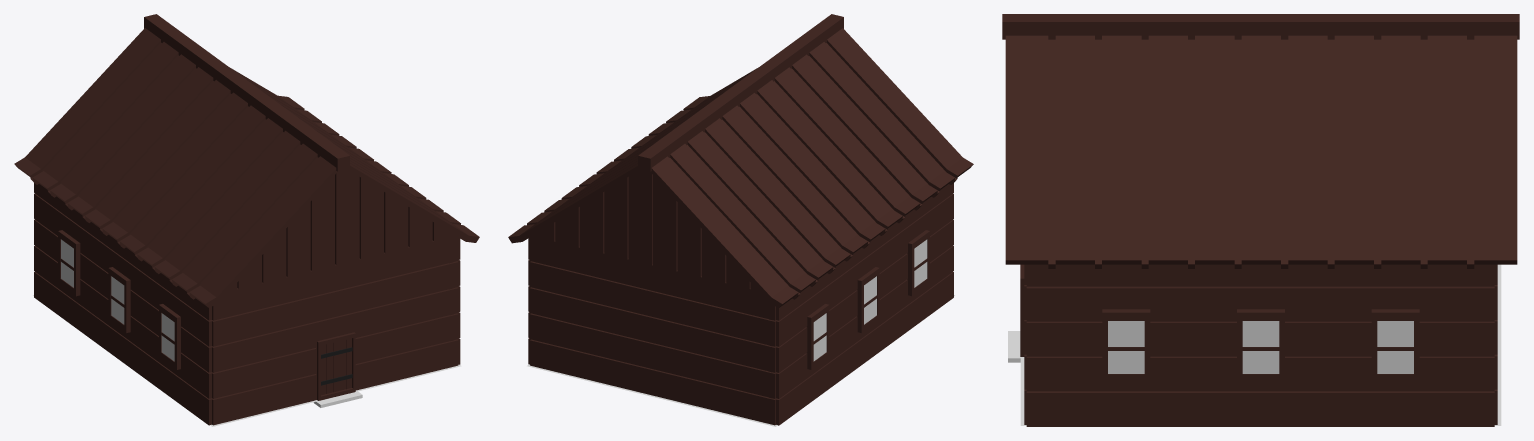
The model's file is WoodenHouse.fbx.
3 views of the same model, side by side, from view 1: azimuth 30°, elevation 25°; view 2: azimuth 150°, elevation 25°; view 3: azimuth 270°, elevation 25° (orthographic). The views are drawn at different scales.
Parts seen in each view (by area): view 1: Roof, Cube.002, Cube.004, FrontAndBackRoof, Cube, Frame.001, Frame, Frame.002, Light.001, Light.002, Light; view 2: Roof, Cube.003, Cube.004, FrontAndBackRoof, Frame, Frame.001, Frame.002, Light, Light.002, Plane, Light.001; view 3: Roof, Cube.005, Frame, Frame.002, Light.004, Light.003, Light.005, Frame.001, Plane, Cube.003, Cube.002.
Boxes of the visible parts, x1,y1,x2,y2 form: Roof: [14, 14, 479, 307]; Cube.002: [211, 236, 458, 425]; Cube.004: [34, 183, 212, 425]; FrontAndBackRoof: [229, 169, 455, 291]; Cube: [316, 332, 355, 400]; Frame.001: [108, 267, 131, 332]; Frame: [58, 230, 80, 296]; Frame.002: [159, 304, 181, 369]; Light.001: [111, 276, 124, 324]; Light.002: [161, 313, 174, 361]; Light: [61, 239, 73, 287]; Roof: [508, 14, 973, 308]; Cube.003: [530, 236, 775, 425]; Cube.004: [769, 183, 953, 425]; FrontAndBackRoof: [532, 169, 757, 290]; Frame: [806, 304, 829, 369]; Frame.001: [857, 267, 879, 333]; Frame.002: [907, 230, 929, 296]; Light: [813, 313, 826, 361]; Light.002: [914, 239, 927, 287]; Plane: [527, 295, 954, 426]; Light.001: [864, 276, 876, 324]; Roof: [1002, 14, 1519, 268]; Cube.005: [1026, 264, 1494, 426]; Frame: [1371, 309, 1419, 382]; Frame.002: [1102, 309, 1150, 382]; Light.004: [1242, 321, 1279, 373]; Light.003: [1377, 321, 1413, 373]; Light.005: [1108, 321, 1144, 373]; Frame.001: [1237, 309, 1284, 382]; Plane: [1020, 264, 1501, 425]; Cube.003: [1494, 264, 1497, 424]; Cube.002: [1024, 264, 1026, 424].
Bounding box in the file's own units: 4405 × 3796 × 5382.
